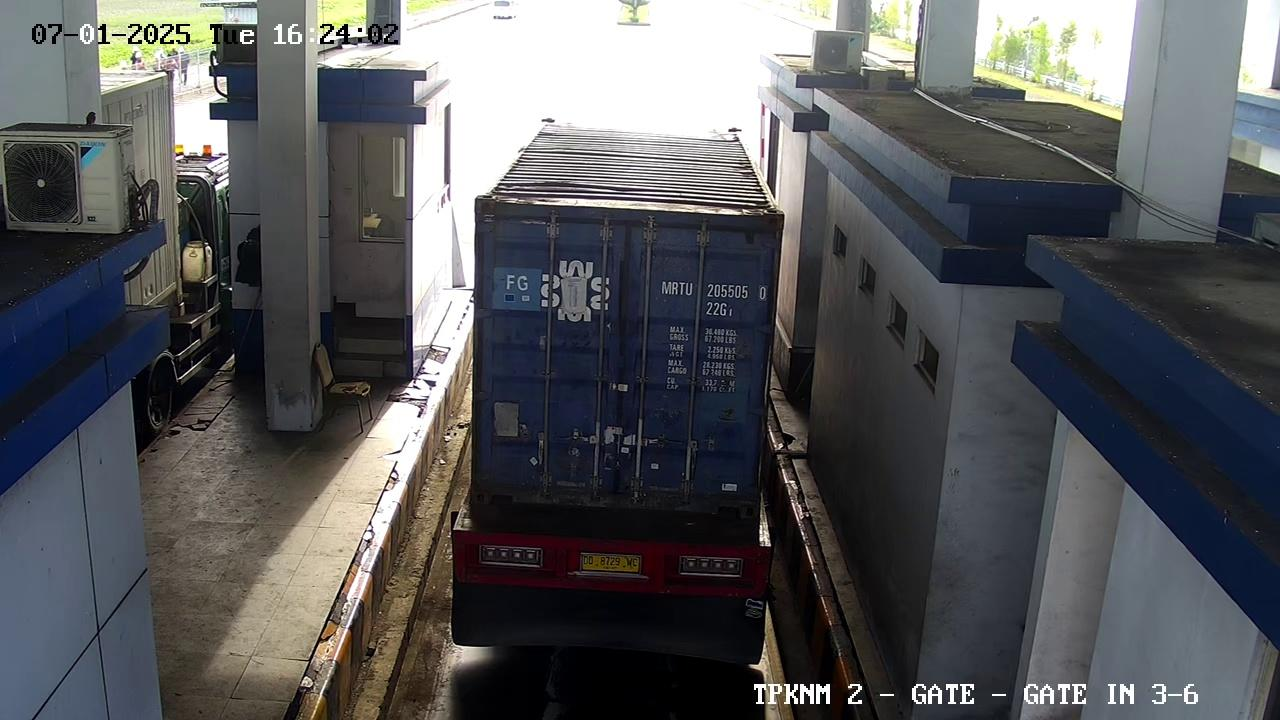Container_ID: (648, 270, 774, 300)
plate_number: (577, 544, 654, 581)
